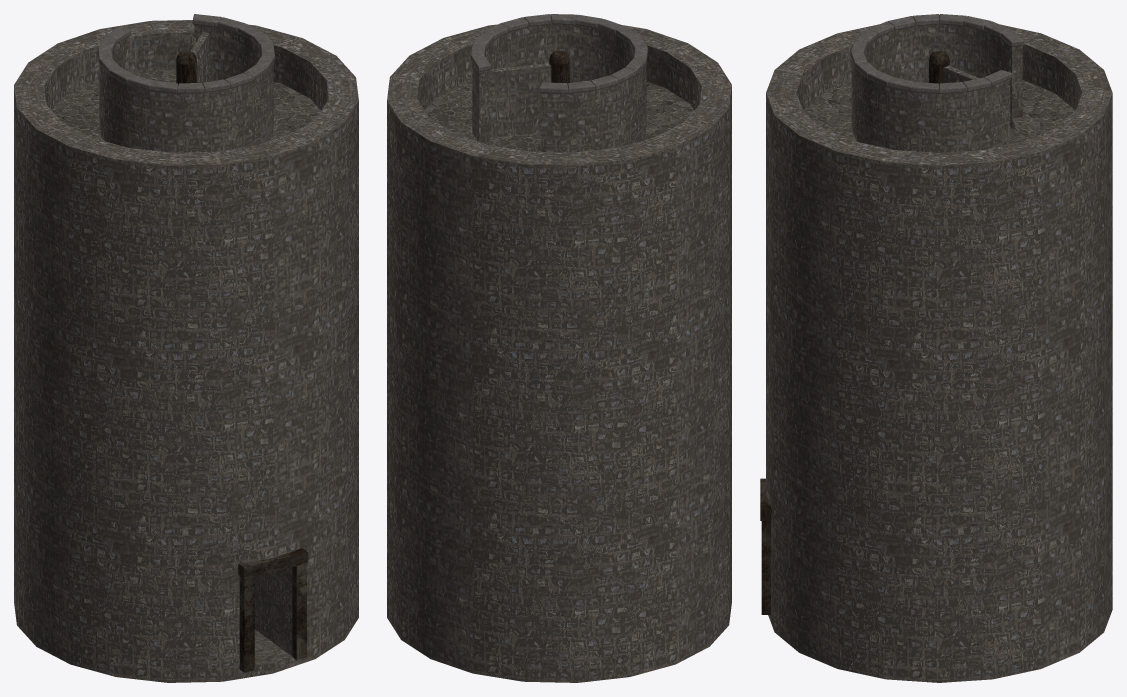
File: CastleRoundTowerInt.fbx
The picture shows the model from 3 angles, left to right: view 1: azimuth 30°, elevation 25°; view 2: azimuth 150°, elevation 25°; view 3: azimuth 270°, elevation 25°; orthographic projection.
Visible parts, largest first — view 1: Round Tower Large Interior; view 2: Round Tower Large Interior; view 3: Round Tower Large Interior.
Part boxes in pixels (<box>): Round Tower Large Interior: <box>14,14,358,682</box>; Round Tower Large Interior: <box>387,14,731,682</box>; Round Tower Large Interior: <box>760,14,1112,682</box>.
Bounding box in the file's own units: 599 × 1066 × 609.
